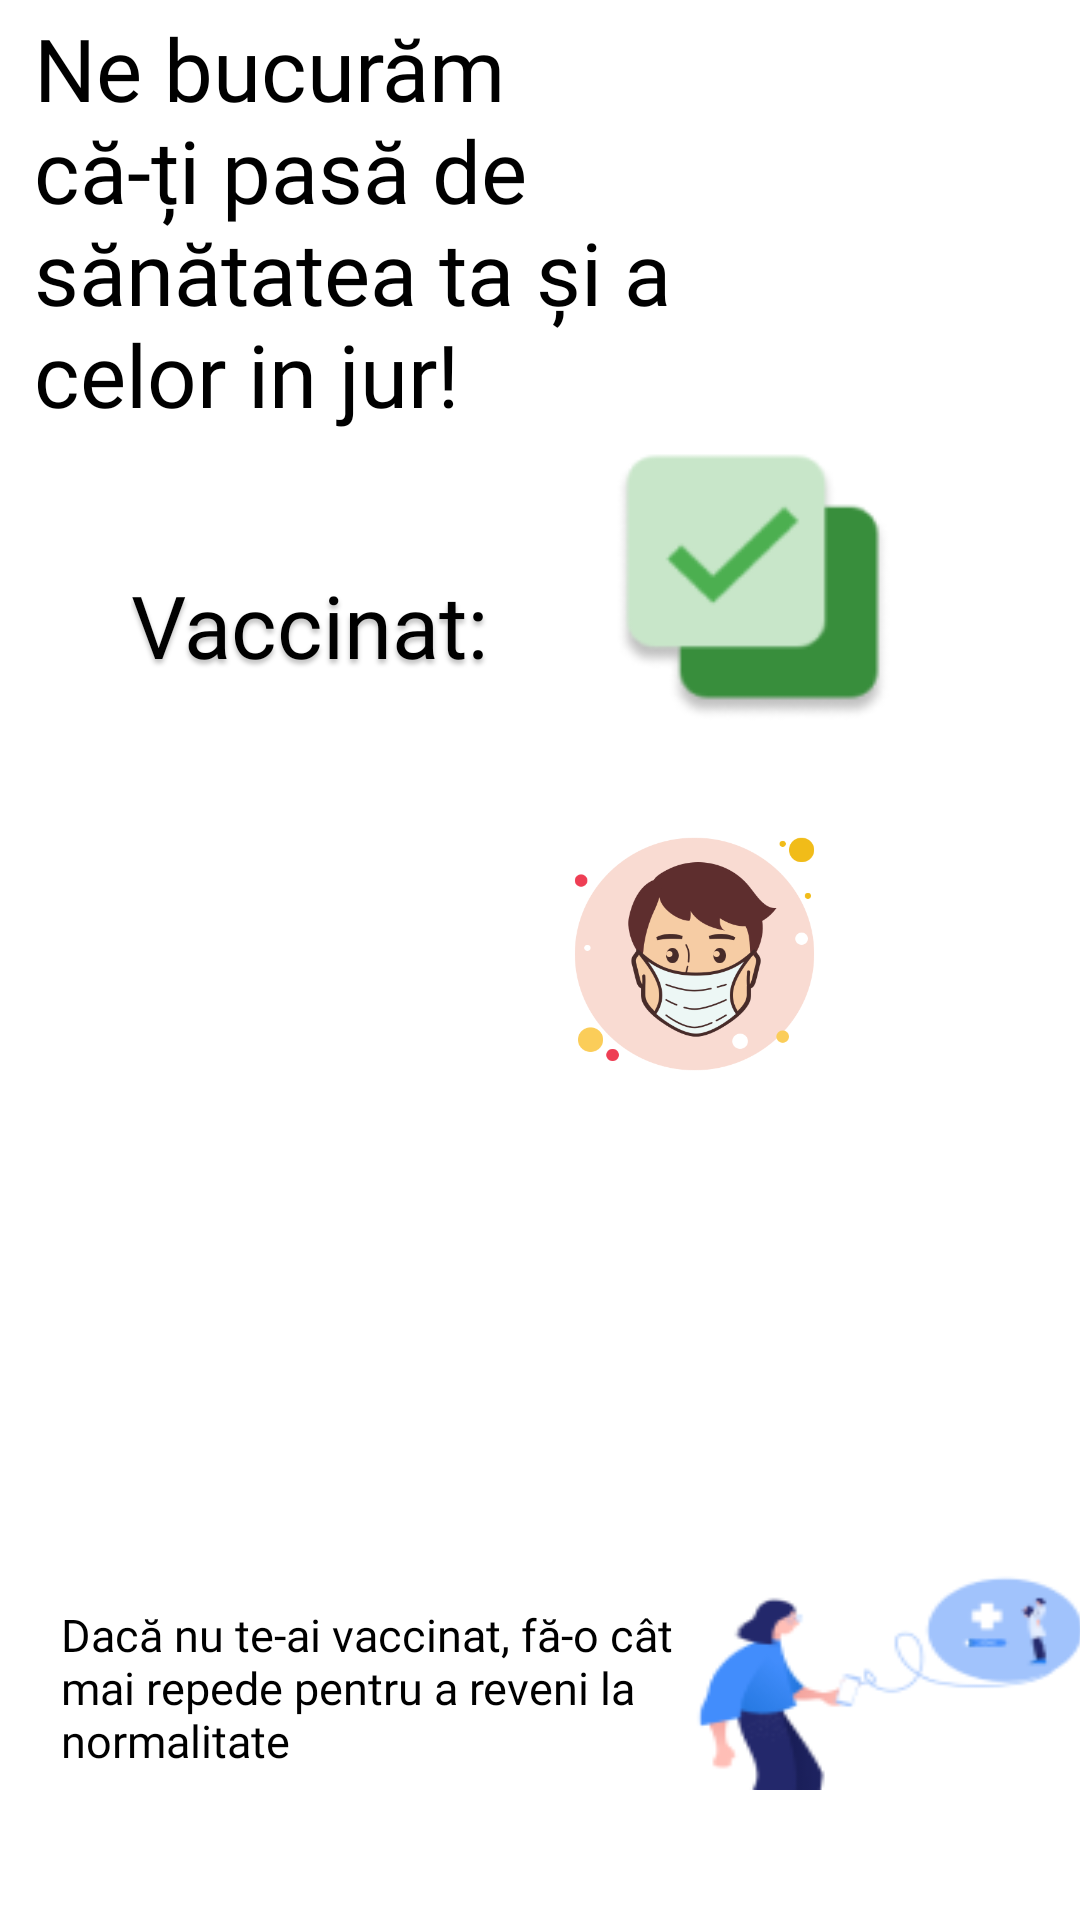

Screen size 1080*1920. Icon name, then its box in pixels as (x1, y1, x2, y2):
check all: (625, 456, 880, 710)
masca protectie: (575, 837, 814, 1070)
